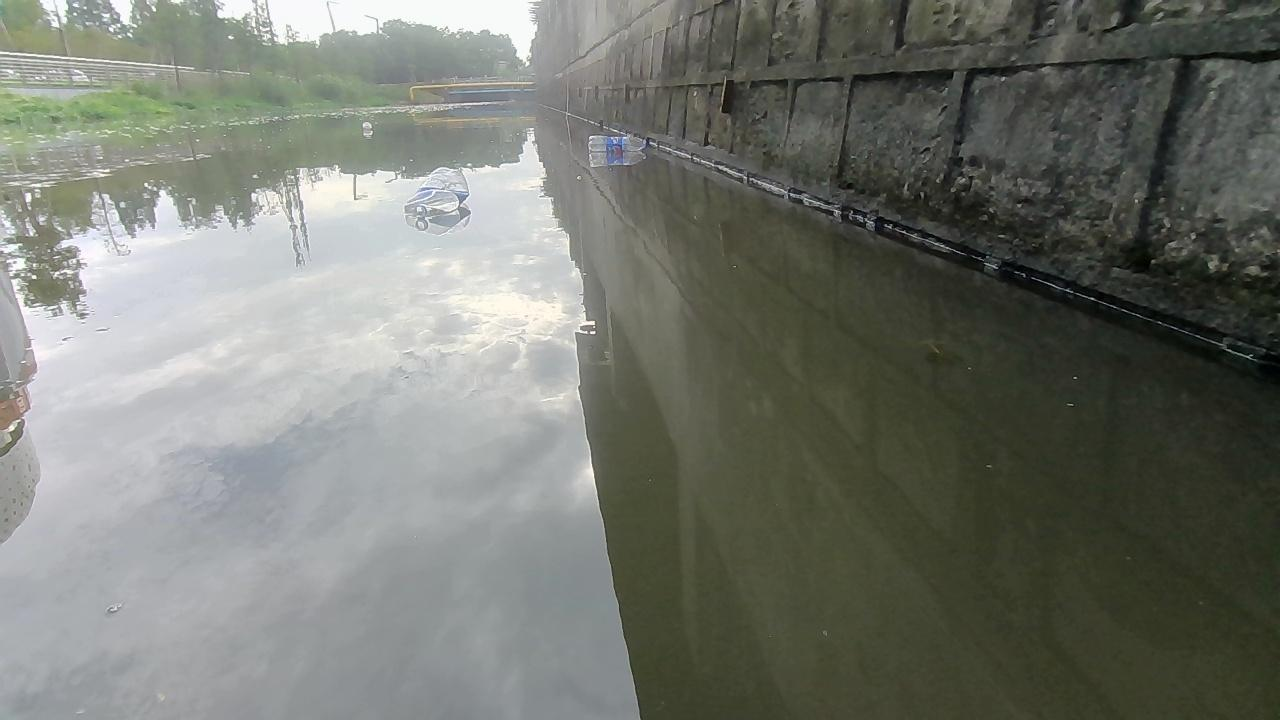bottle: (399, 166, 466, 222), (586, 131, 647, 155), (361, 120, 373, 131)
